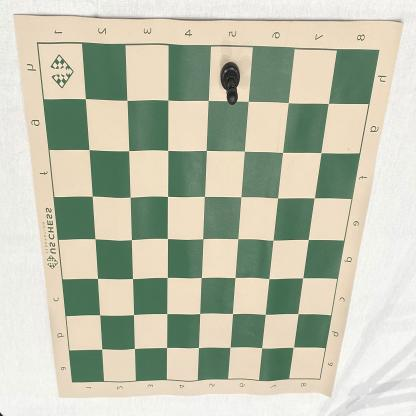black-pawn: (219, 61, 241, 105)
